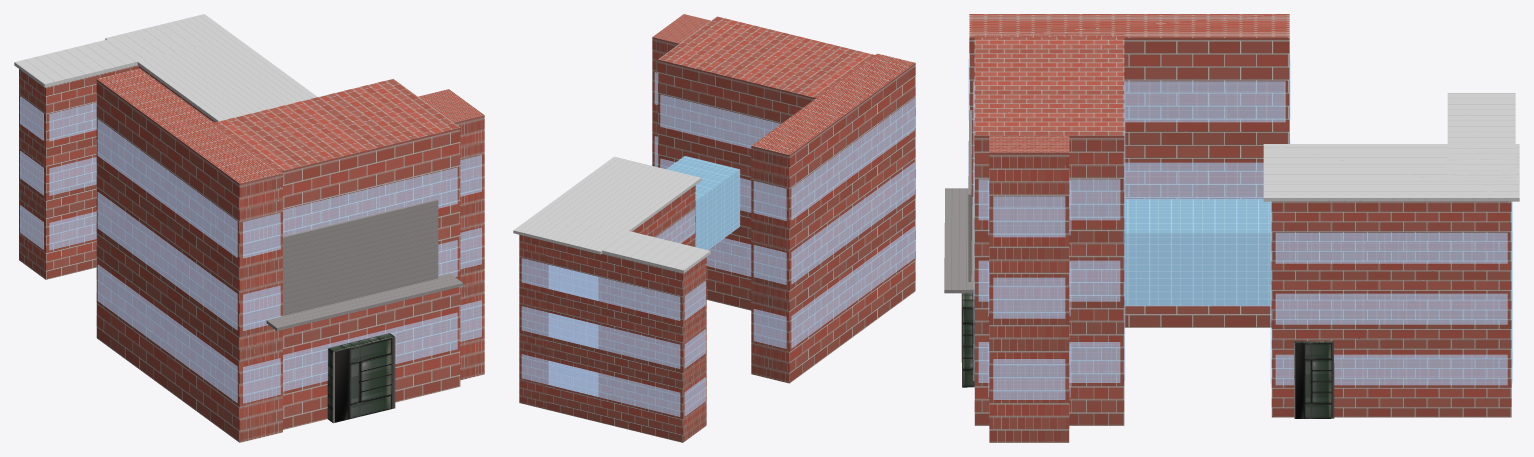
The model's file is Martin_Lilly_v9_window.glb.
3 views of the same model, side by side, from view 1: azimuth 30°, elevation 25°; view 2: azimuth 150°, elevation 25°; view 3: azimuth 270°, elevation 25° (orthographic). The views are drawn at different scales.
Parts seen in each view (by area): view 1: MartinBackDepth, MartinMid, LillyBackExtension, LillyRoof_1, LillyRoof, MartinFront, LillyRoofExt, MartinBackDepth_left_windows_row3, MartinBackDepth_left_windows_row1, MartinBackDepth_left_windows_row2, LillyRoof_3, MartinMid_front_windows_row3 (+15 smaller); view 2: MartinBackDepth, LillyBackExtension, MartinMid, LillyRoof, LillyFront, MartinBackDepth_left_windows_row3, MartinBackDepth_left_windows_row1, MartinBackDepth_left_windows_row2, Skybridge, SkybridgeWindows, LillyRoofExt, MartinMid_back_windows_row3 (+16 smaller); view 3: LillyFront, MartinBackDepth, MartinMid, MartinFront, SkybridgeWindows, Skybridge, LillyRoof, LillyFront_right_windows_row2, LillyFront_right_windows_row3, MartinBackDepth_right_windows_row3, LillyFront_right_windows_row1, LillyRoofExt (+11 smaller).
Boxes of the visible parts, bbox=[...] form: MartinBackDepth: bbox=[96, 68, 282, 442]; MartinMid: bbox=[208, 78, 460, 429]; LillyBackExtension: bbox=[19, 65, 138, 279]; LillyRoof_1: bbox=[283, 199, 438, 315]; LillyRoof: bbox=[105, 14, 317, 121]; MartinFront: bbox=[418, 89, 484, 380]; LillyRoofExt: bbox=[14, 23, 204, 87]; MartinBackDepth_left_windows_row3: bbox=[97, 119, 237, 257]; MartinBackDepth_left_windows_row1: bbox=[97, 265, 237, 402]; MartinBackDepth_left_windows_row2: bbox=[97, 192, 237, 329]; LillyRoof_3: bbox=[327, 333, 395, 423]; MartinMid_front_windows_row3: bbox=[283, 167, 457, 236]; MartinBackDepth: bbox=[751, 53, 915, 383]; LillyBackExtension: bbox=[546, 241, 706, 442]; MartinMid: bbox=[658, 16, 875, 310]; LillyRoof: bbox=[513, 156, 701, 254]; LillyFront: bbox=[519, 185, 695, 422]; MartinBackDepth_left_windows_row3: bbox=[791, 98, 914, 219]; MartinBackDepth_left_windows_row1: bbox=[791, 226, 914, 347]; MartinBackDepth_left_windows_row2: bbox=[791, 162, 914, 283]; Skybridge: bbox=[667, 156, 739, 249]; SkybridgeWindows: bbox=[667, 156, 739, 249]; LillyRoofExt: bbox=[544, 216, 710, 273]; MartinMid_back_windows_row3: bbox=[660, 94, 780, 148]; LillyFront: bbox=[1271, 201, 1511, 417]; MartinBackDepth: bbox=[969, 14, 1289, 327]; MartinMid: bbox=[974, 34, 1124, 425]; MartinFront: bbox=[989, 135, 1069, 442]; SkybridgeWindows: bbox=[1124, 199, 1271, 306]; Skybridge: bbox=[1124, 199, 1271, 305]; LillyRoof: bbox=[1263, 144, 1519, 201]; LillyFront_right_windows_row2: bbox=[1275, 293, 1507, 324]; LillyFront_right_windows_row3: bbox=[1275, 232, 1507, 263]; MartinBackDepth_right_windows_row3: bbox=[973, 81, 1285, 122]; LillyFront_right_windows_row1: bbox=[1275, 354, 1507, 385]; LillyRoofExt: bbox=[1447, 93, 1515, 180].
Size of what is drawn, in the model's own units: 82.58 by 80.02 by 144.
Materials: 6 (6 with a texture image).
